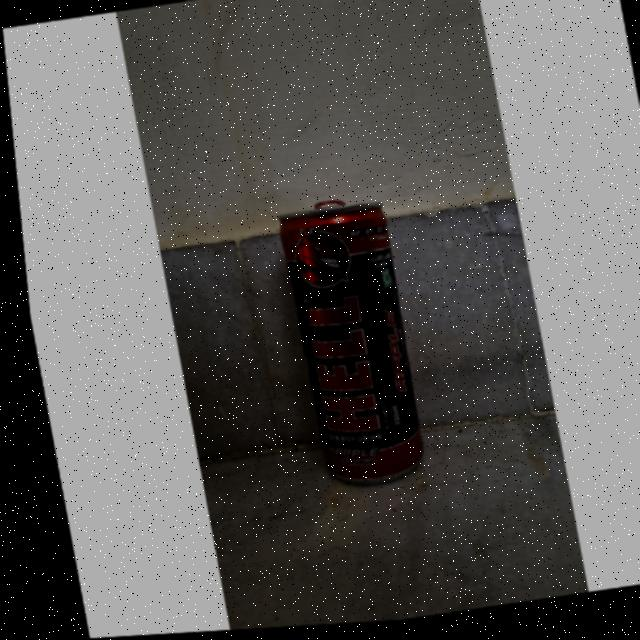Hell Apple: (255, 178, 441, 512)
